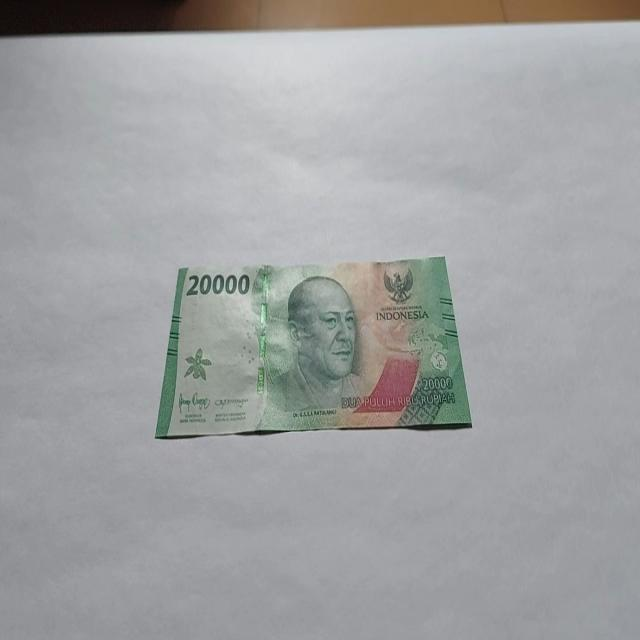dua puluh ribu rupiah: (154, 254, 472, 440)
